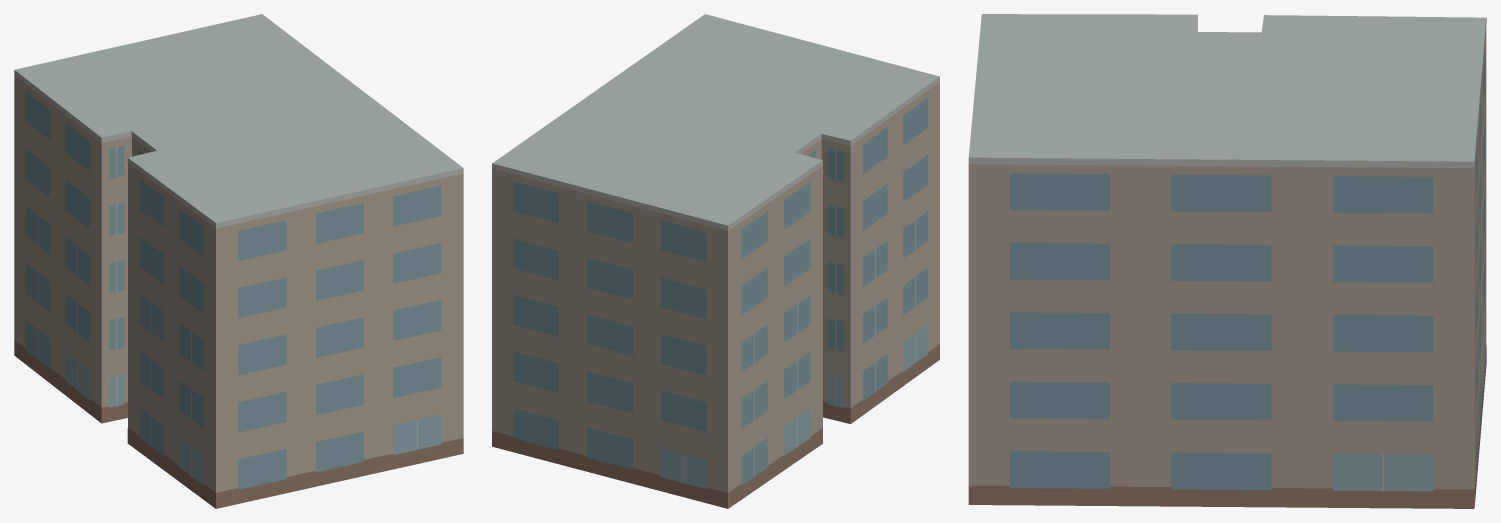
Rendered from survey-upis-32623263.glb.
3 views of the same model, side by side, from view 1: azimuth 30°, elevation 25°; view 2: azimuth 150°, elevation 25°; view 3: azimuth 270°, elevation 25° (orthographic). The views are drawn at different scales.
Visible parts, largest first — view 1: survey-upis-32623263.tmp; view 2: survey-upis-32623263.tmp; view 3: survey-upis-32623263.tmp.
Part boxes in pixels (x1,y1,x2,y2): survey-upis-32623263.tmp: [14, 14, 463, 508]; survey-upis-32623263.tmp: [492, 14, 939, 508]; survey-upis-32623263.tmp: [968, 14, 1486, 508].
Size of the model in its own units: 11.86 by 13 by 17.58.
